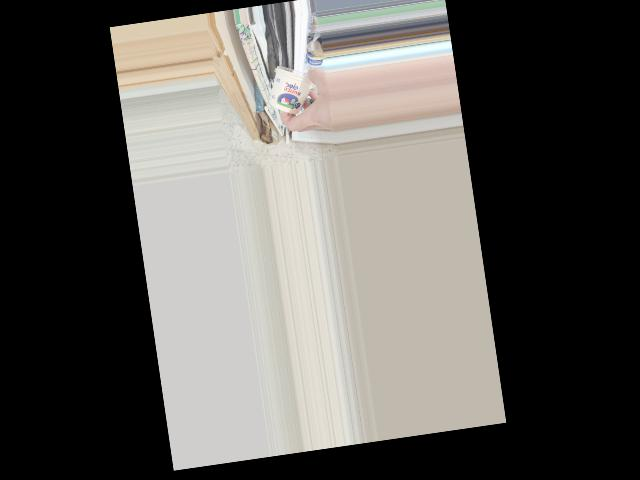cotage: (264, 60, 314, 115)
